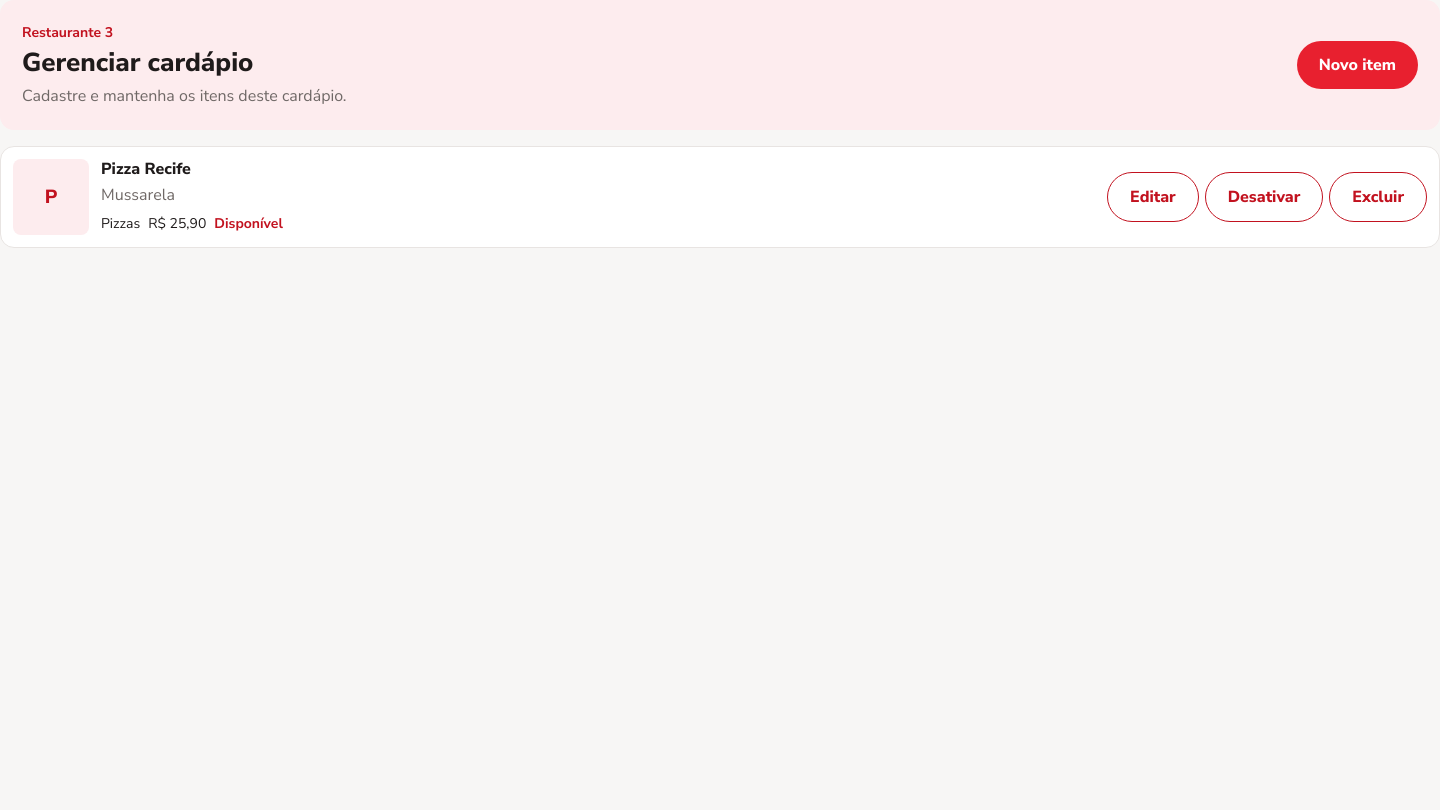
Scenario: PainelCardapio › cadastra item usando preço em centavos e atualiza a lista
The image size is (1440, 810).
expect the heading "Pizza Recife" is shown: met, box 101,158 -> 191,180
Click the button "Novo item": click(1357, 65) 1297,41 -> 1418,89
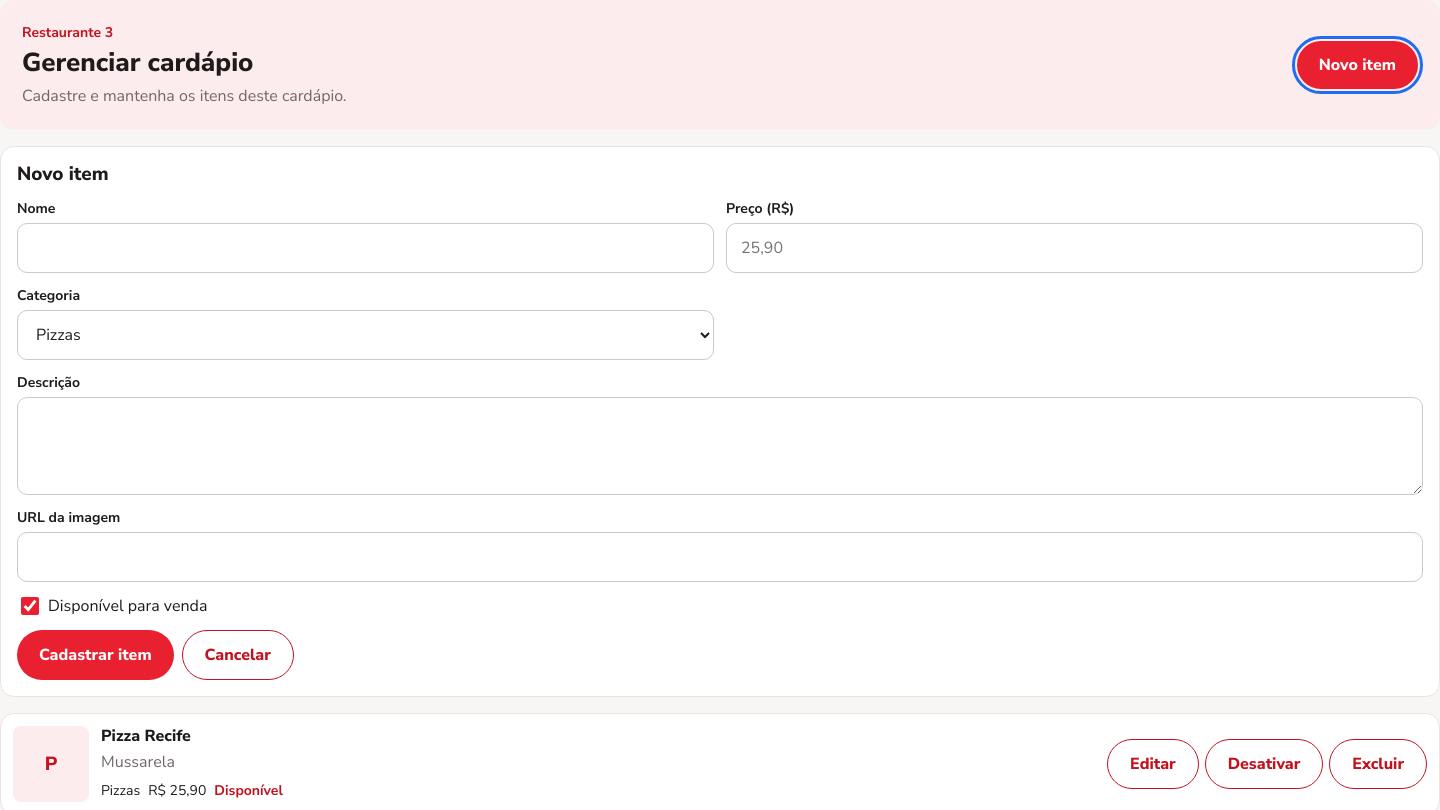
In the field labelled "Nome": (366, 248) 17,223 -> 714,273, type "Suco de laranja"
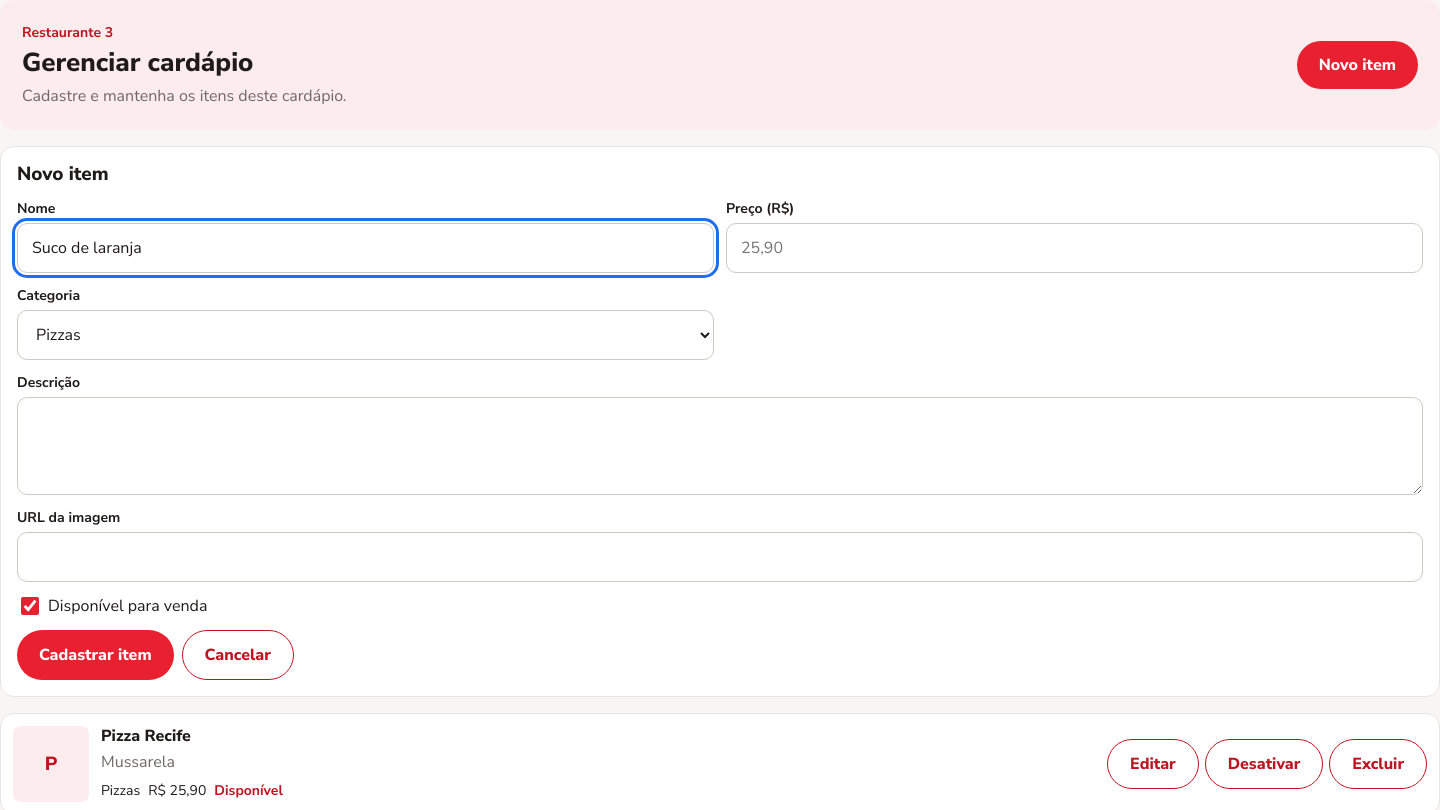
In the text box labelled "Descrição": (720, 446) 17,397 -> 1423,495, type "Natural"
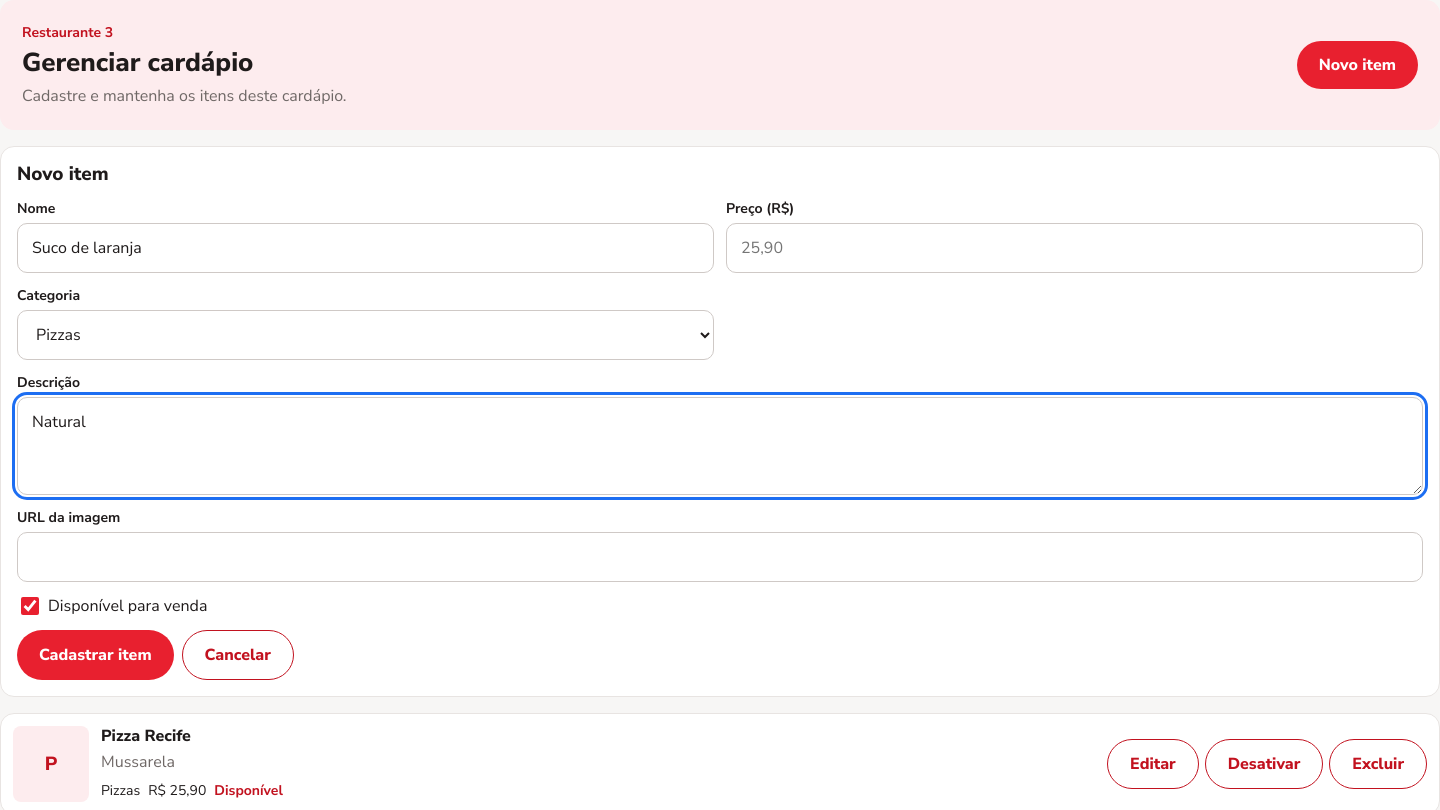
In the field labelled "Preço (R$)": (1074, 248) 726,223 -> 1423,273, type "7,50"
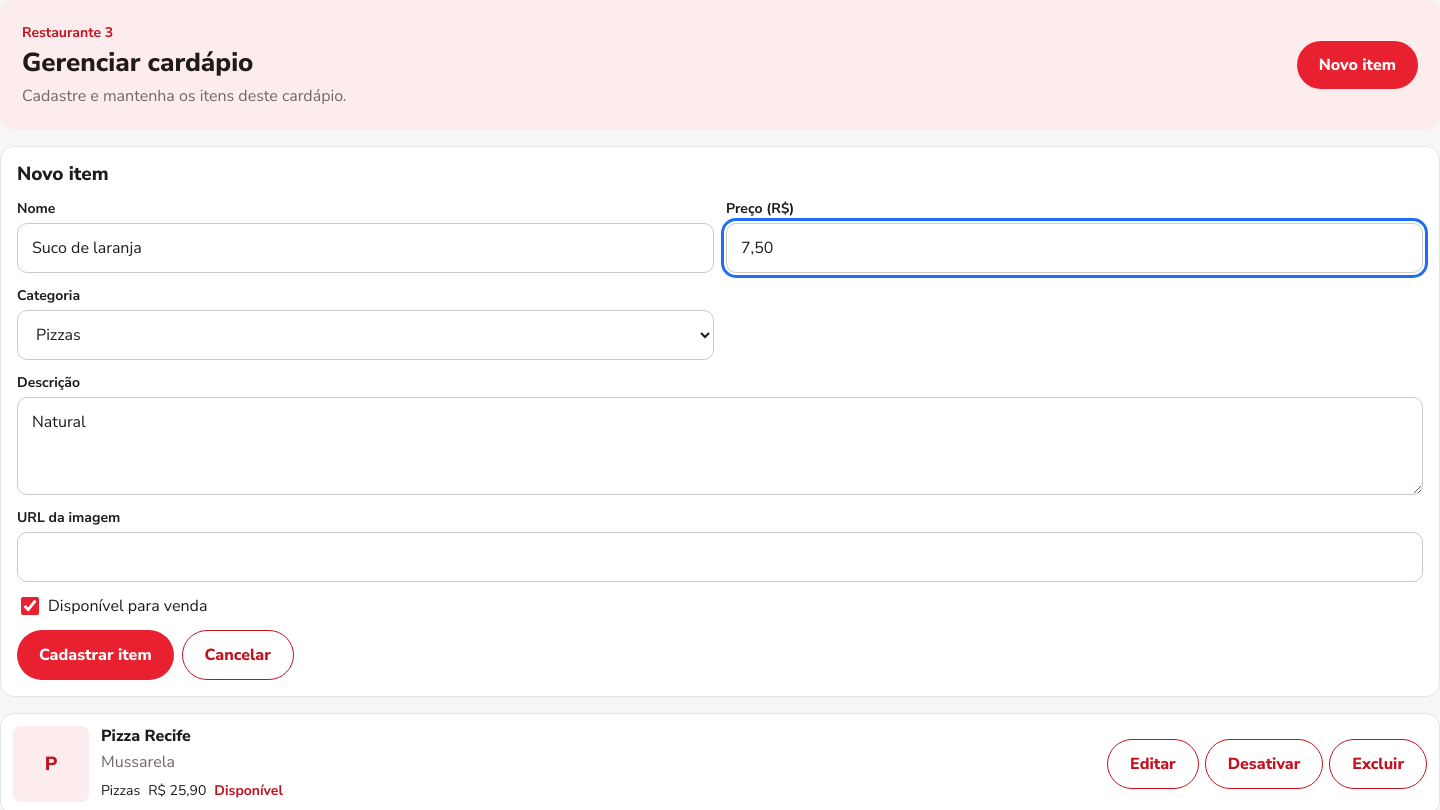
Select "Bebidas" in the dropdown labelled "Categoria": (366, 335) 17,310 -> 714,360
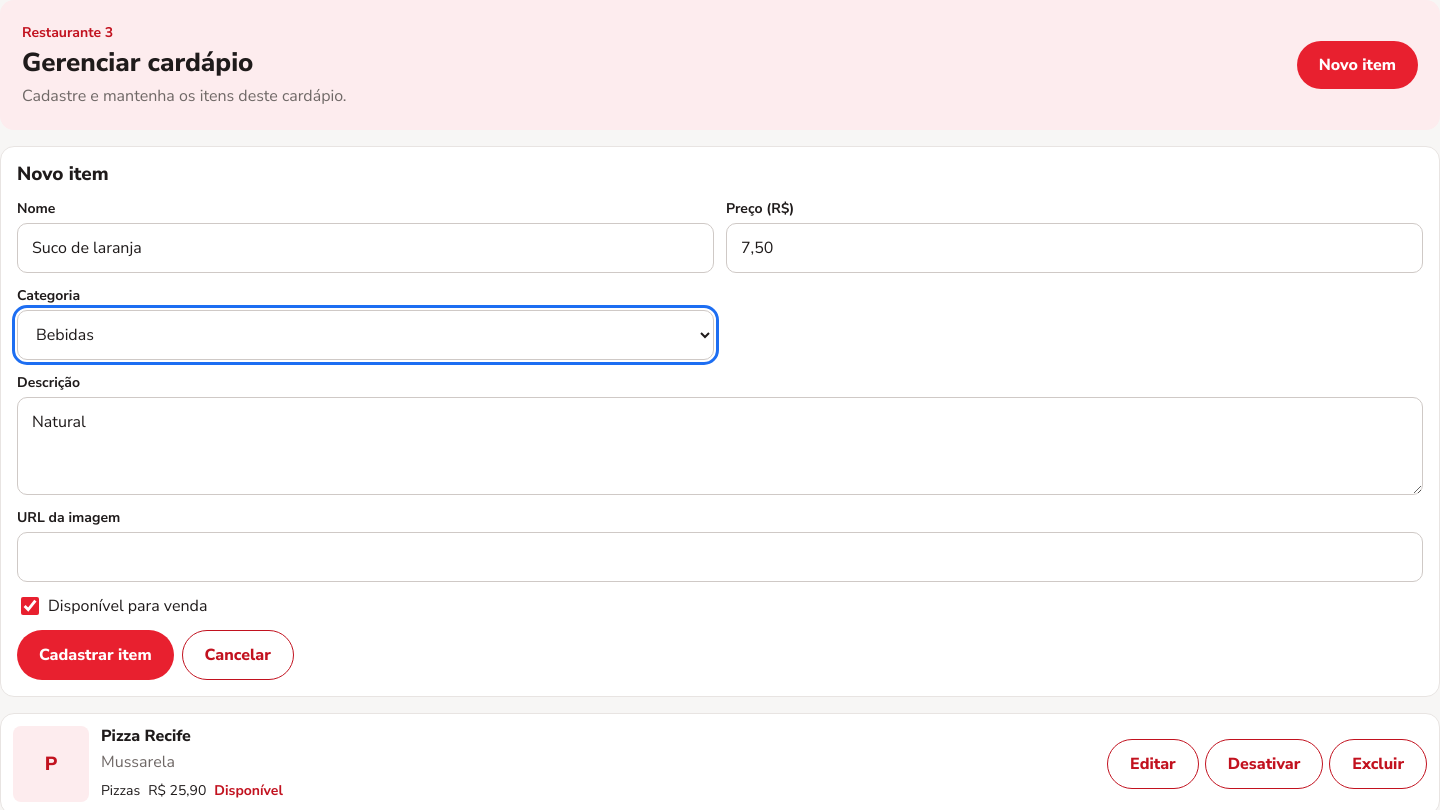
Click the button "Cadastrar item": click(95, 655) 17,630 -> 174,680
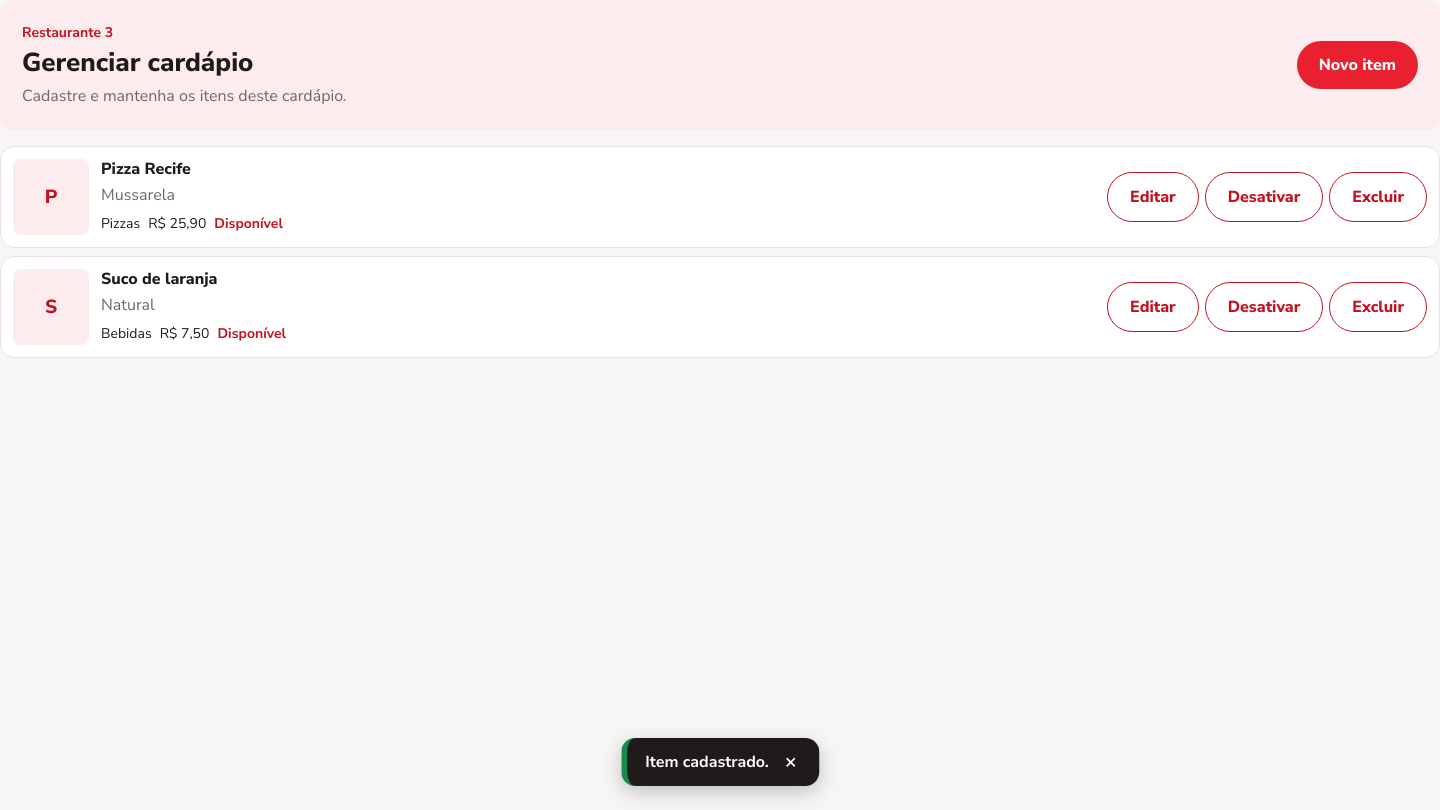
expect the heading "Suco de laranja" is shown: met, box 101,268 -> 218,290
